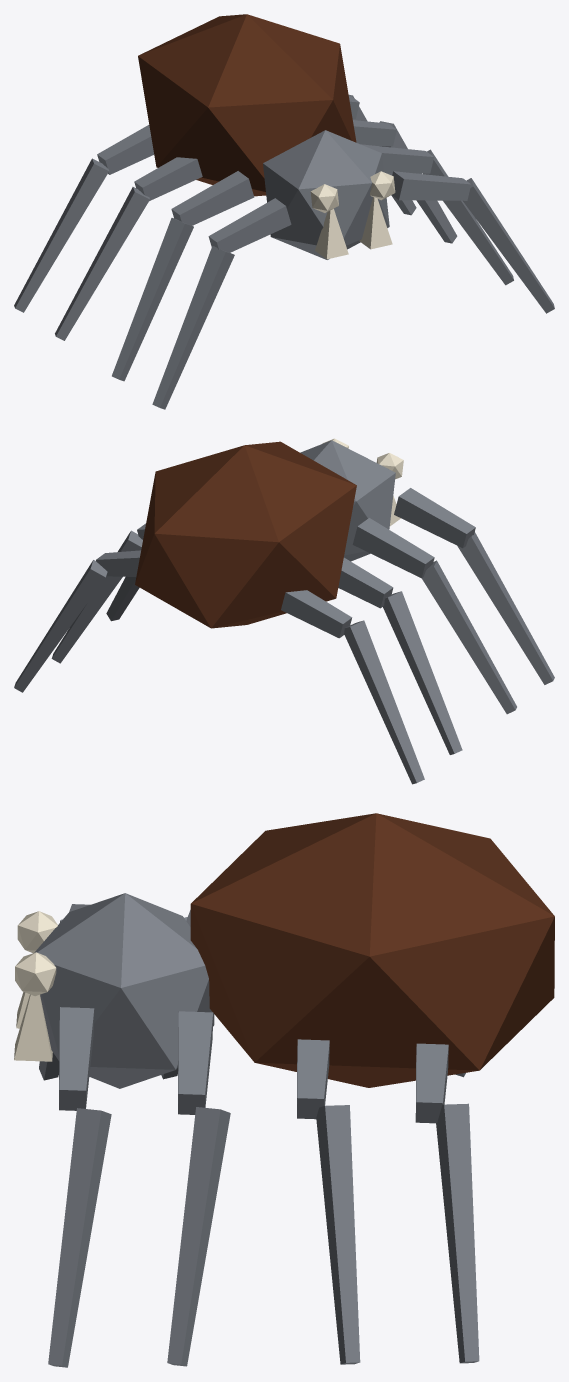
The model's file is npcpose_spider_idle_09.glb.
3 views of the same model, one above another, from view 1: azimuth 30°, elevation 25°; view 2: azimuth 150°, elevation 25°; view 3: azimuth 270°, elevation 25° (orthographic). The views are drawn at different scales.
Parts seen in each view (by area): view 1: npcpose; view 2: npcpose; view 3: npcpose.
Boxes of the visible parts, x1,y1,x2,y2 form: npcpose: (14,14,554,409); npcpose: (14,438,554,784); npcpose: (14,813,554,1367).
Size of the model in its own units: 1.33 by 0.8353 by 1.
